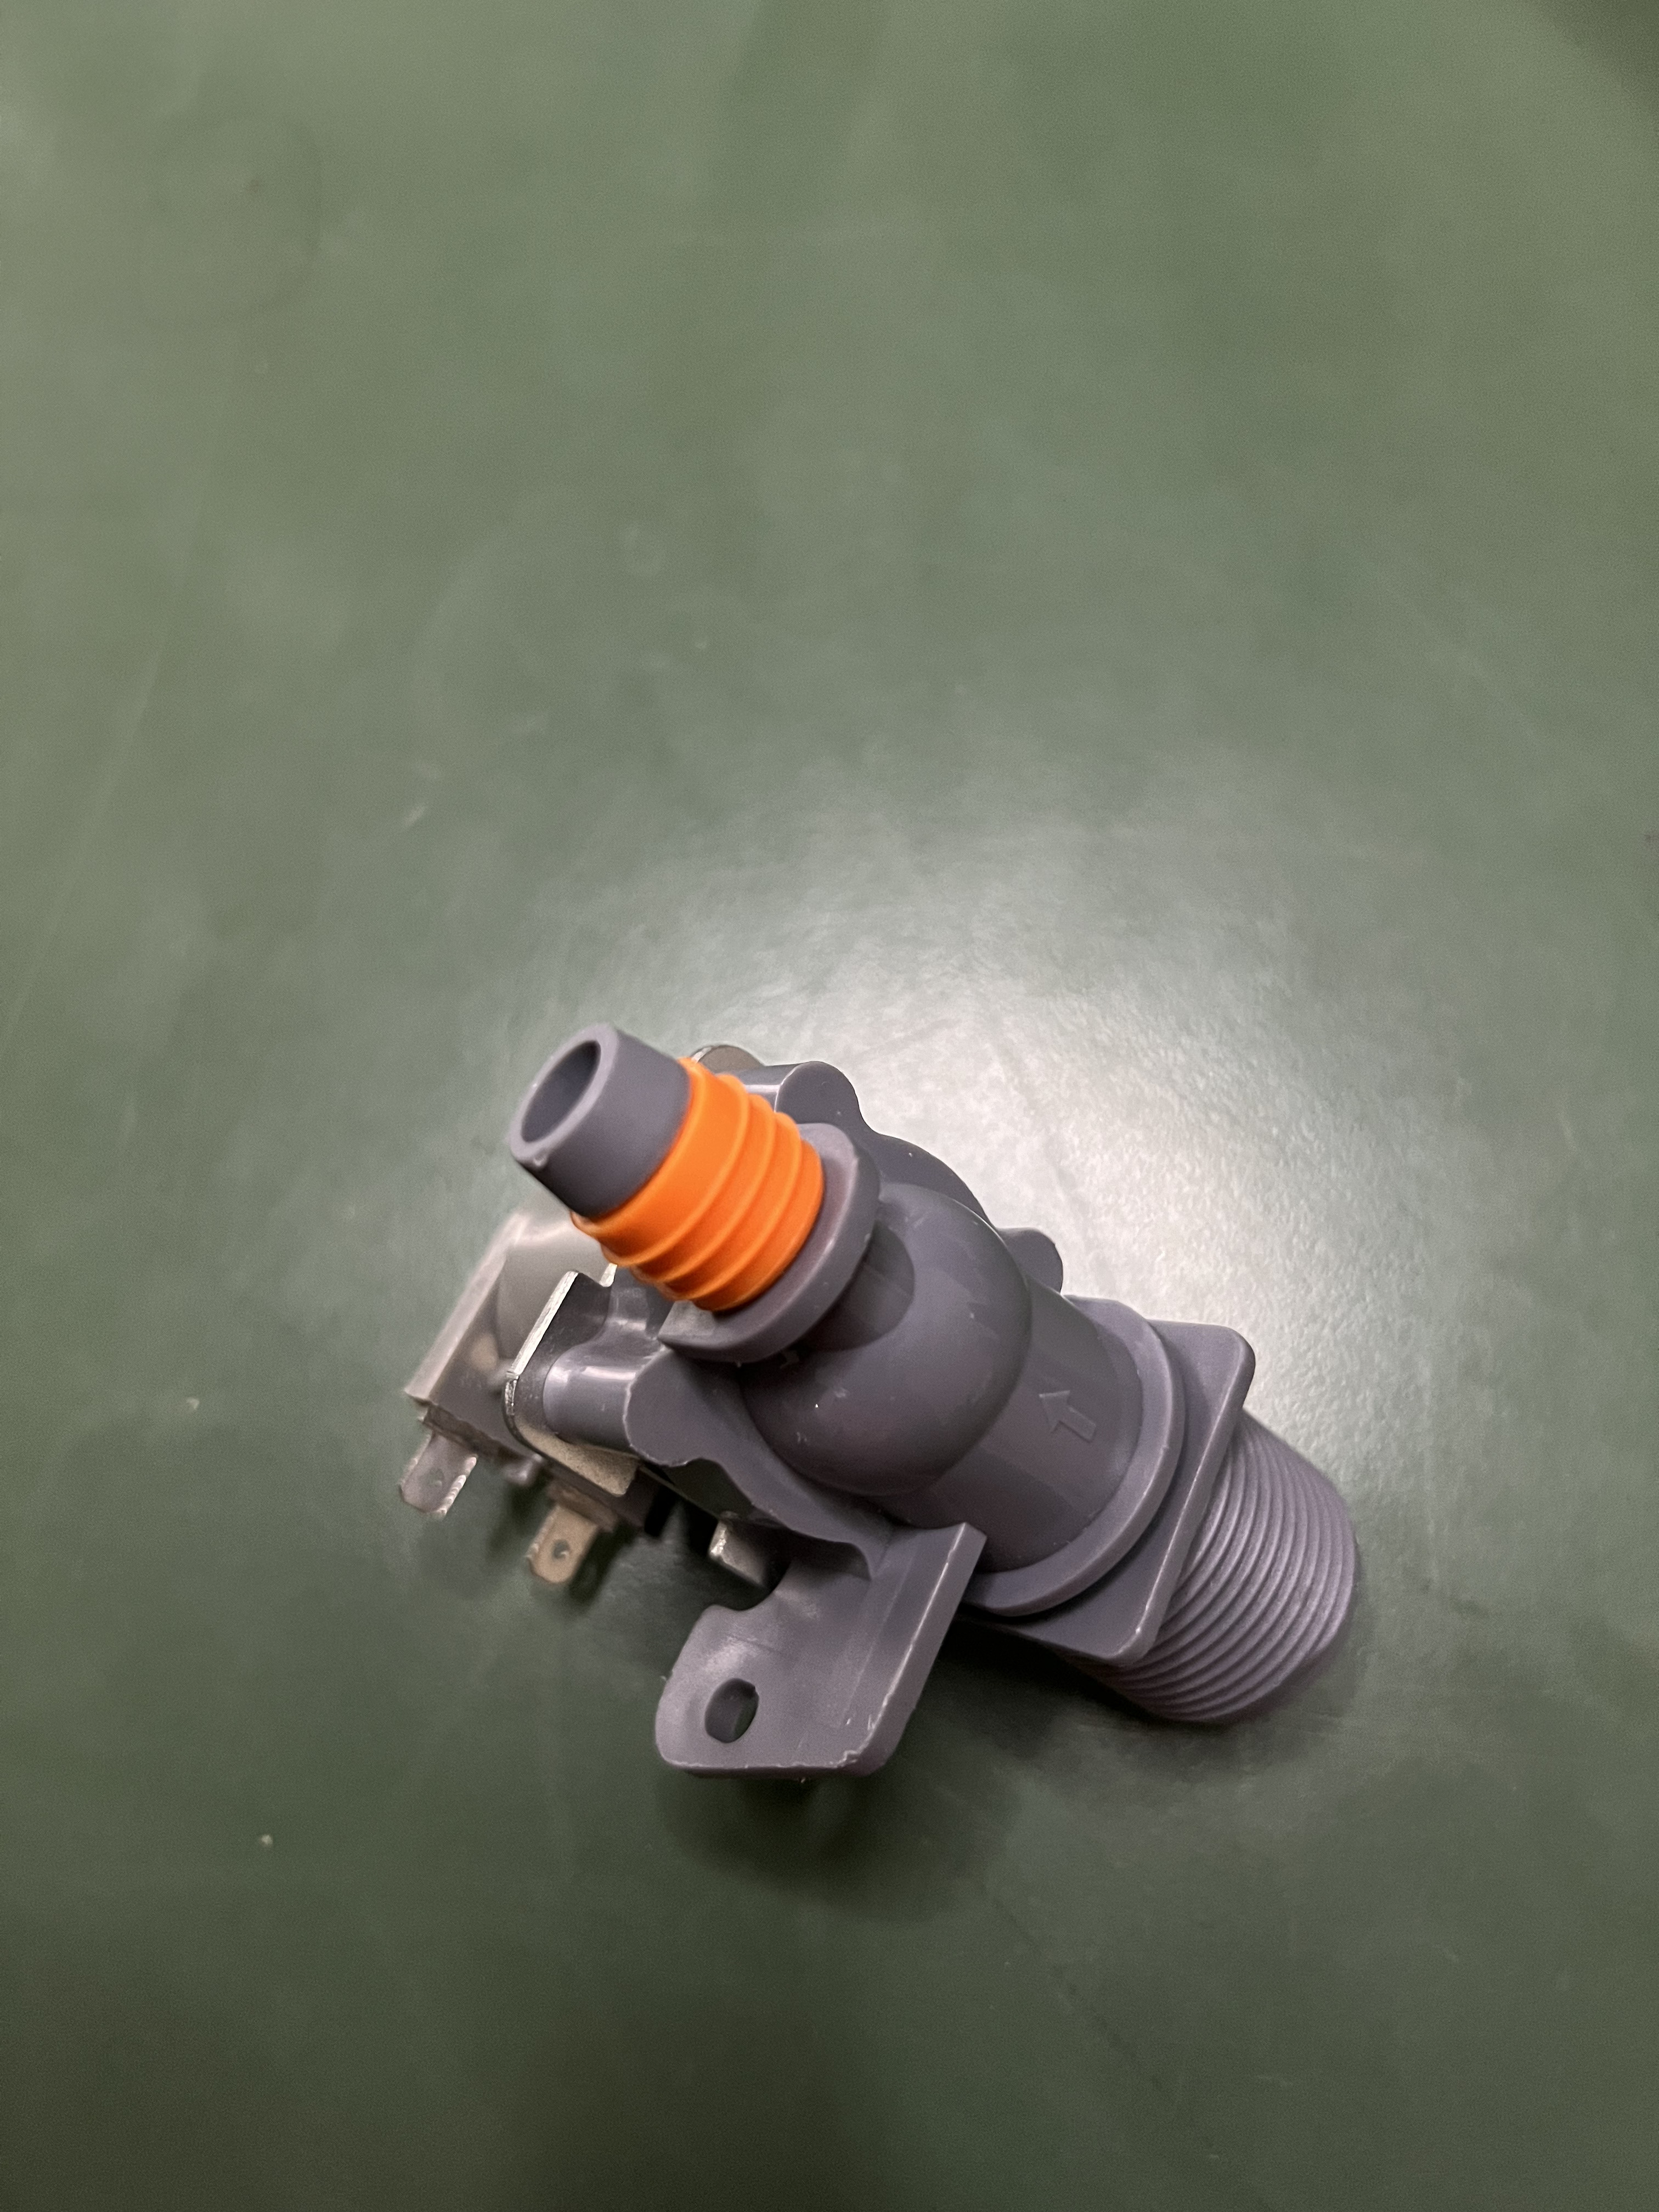inlet_valves: (394, 989, 1392, 1810)
